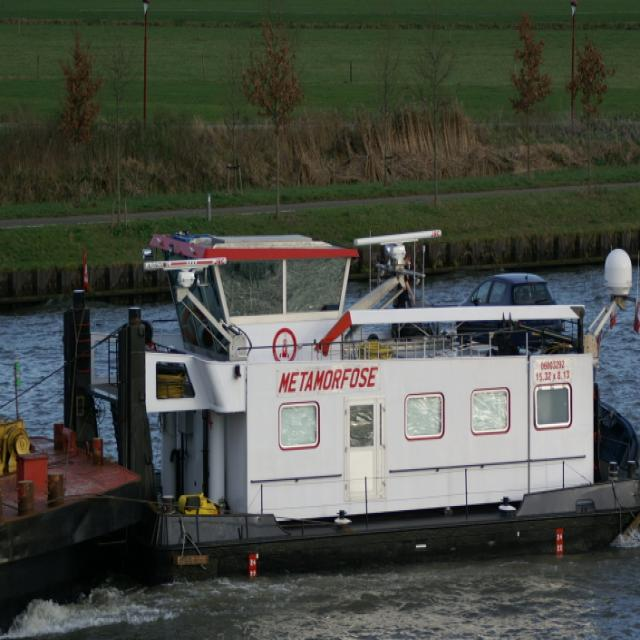tugboat: (53, 205, 640, 596)
